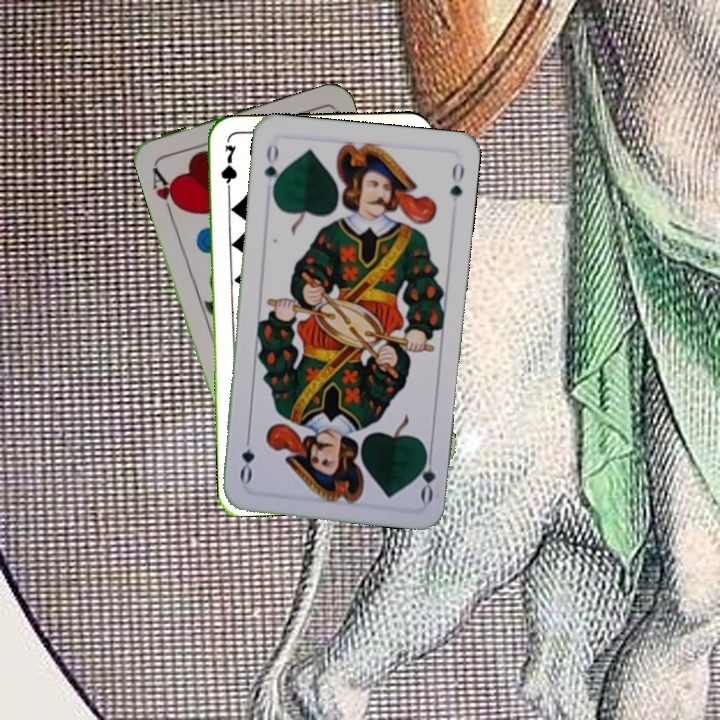G7: (217, 141, 240, 200)
GO: (260, 139, 284, 198), (414, 445, 438, 504)
HA: (148, 163, 184, 219)
